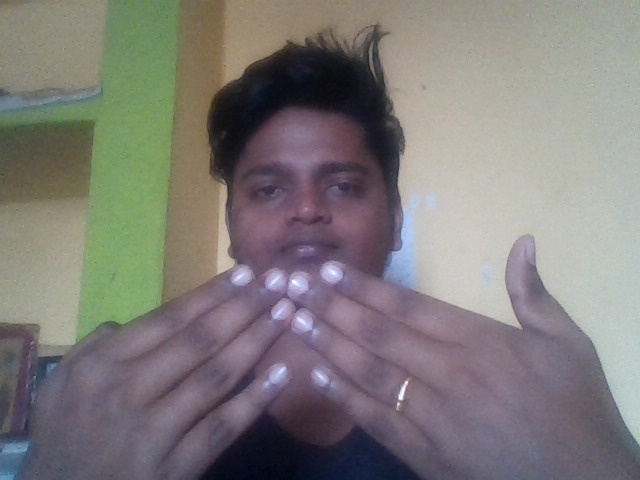thanks: (40, 233, 635, 480)
